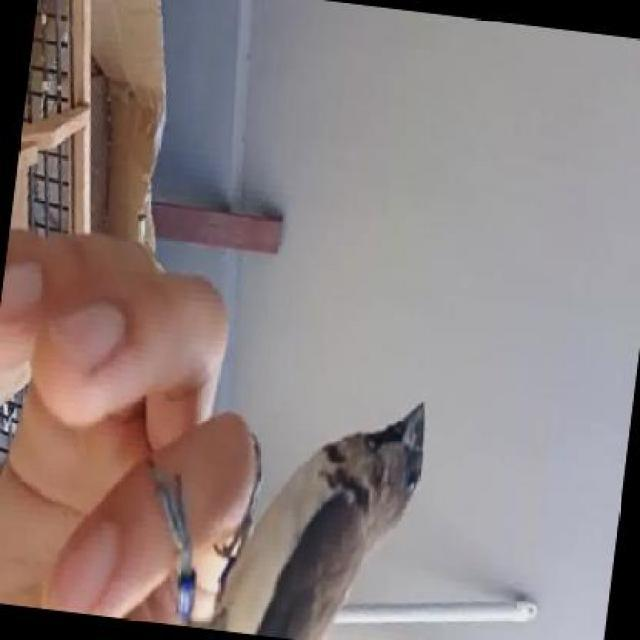Bird: (226, 389, 451, 640)
